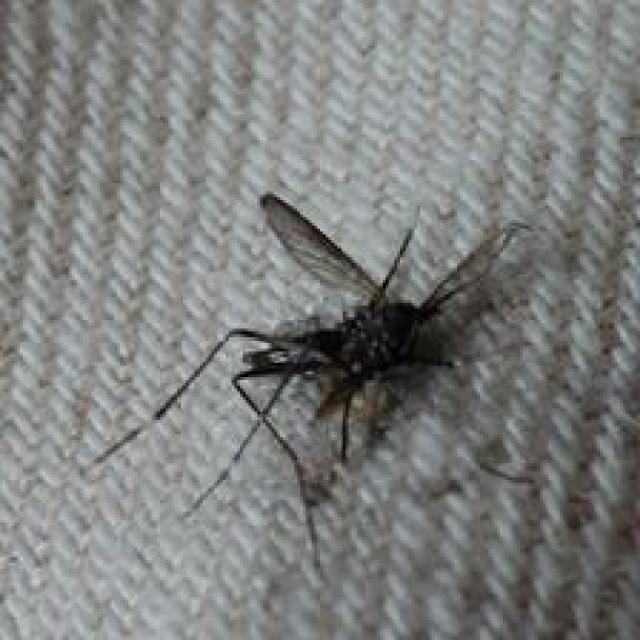Aedes albopictus: (89, 190, 537, 576)
